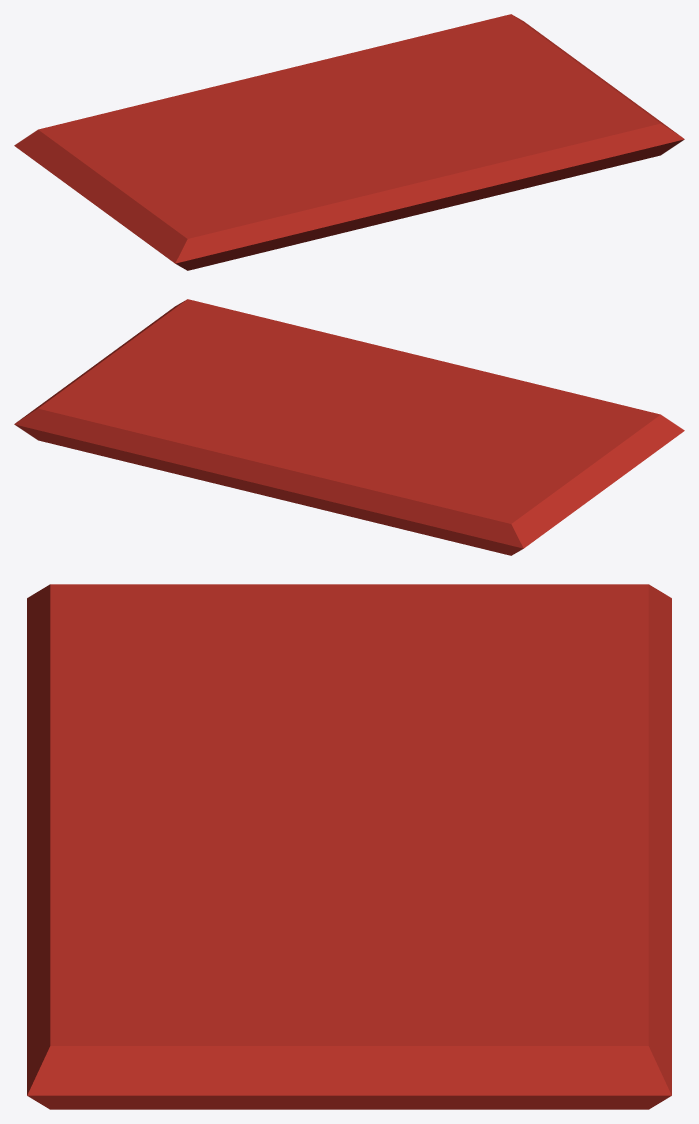
Rendered from plate_01.FBX.
3 views of the same model, one above another, from view 1: azimuth 30°, elevation 25°; view 2: azimuth 150°, elevation 25°; view 3: azimuth 270°, elevation 25° (orthographic). The views are drawn at different scales.
Visible parts, largest first — view 1: plate_01; view 2: plate_01; view 3: plate_01.
Boxes of the visible parts, x1,y1,x2,y2 form: plate_01: (14,14,684,270); plate_01: (14,299,684,555); plate_01: (27,584,671,1109).
Size of the model in its own units: 512 by 30.57 by 280.
